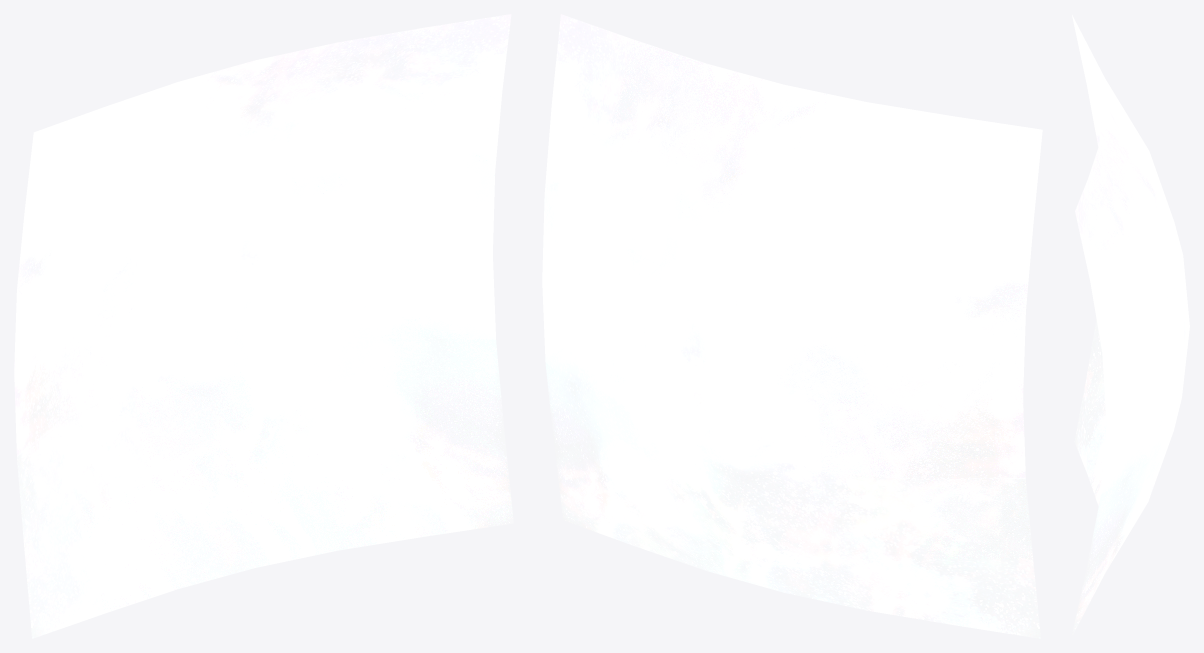
File: bg_terran2_3db.gltf
The picture shows the model from 3 angles, left to right: view 1: azimuth 30°, elevation 25°; view 2: azimuth 150°, elevation 25°; view 3: azimuth 270°, elevation 25°; orthographic projection. The views are drawn at different scales.
Parts seen in each view (by area): view 1: bg_terran2.3db; view 2: bg_terran2.3db; view 3: bg_terran2.3db.
Boxes of the visible parts, box(x1,y1,x2,y2) form: bg_terran2.3db: box(14, 14, 513, 638); bg_terran2.3db: box(542, 14, 1042, 638); bg_terran2.3db: box(1071, 15, 1189, 637).
Bounding box in the file's own units: 73.75 × 74.6 × 18.8.
Materials: 4 (4 with a texture image).
